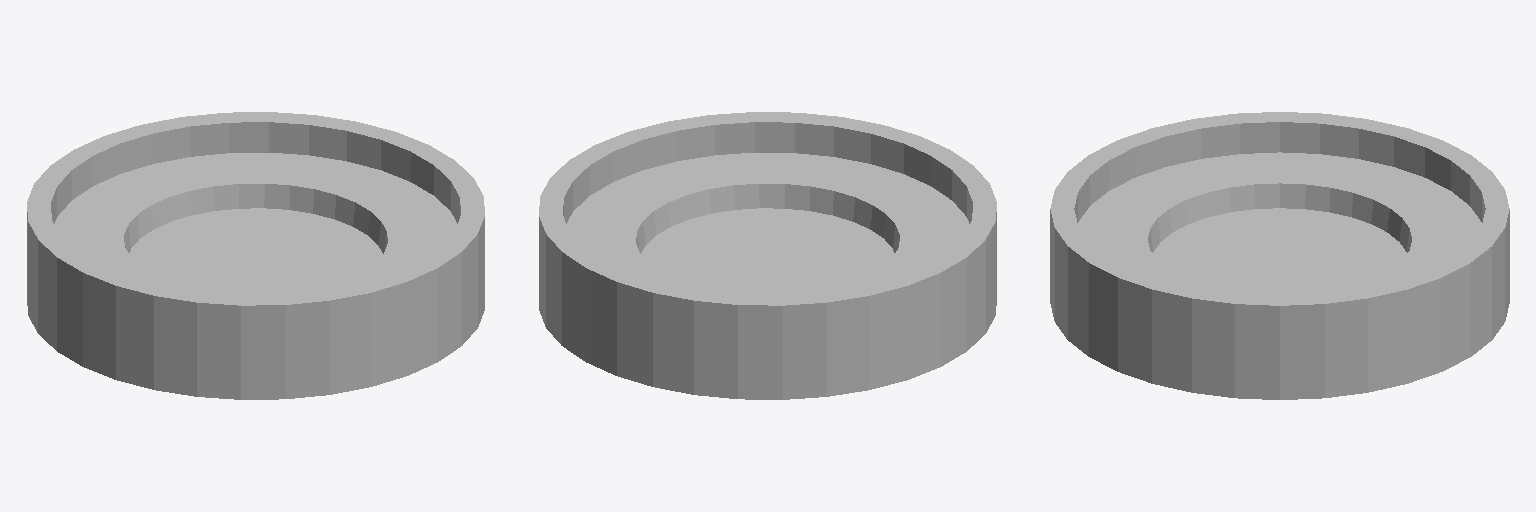
The model's file is arena.obj.
3 renders of one model, left to right at view 1: azimuth 30°, elevation 25°; view 2: azimuth 150°, elevation 25°; view 3: azimuth 270°, elevation 25°, orthographic.
Visible parts, largest first — view 1: Cylinder; view 2: Cylinder; view 3: Cylinder.
Boxes of the visible parts, x1,y1,x2,y2 form: Cylinder: [27, 112, 484, 399]; Cylinder: [539, 112, 996, 399]; Cylinder: [1050, 112, 1509, 399].
Size of the model in its own units: 11.53 by 2.61 by 11.53.